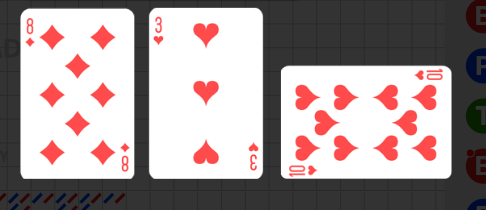10H: (287, 163, 320, 178), (412, 69, 444, 83)
8D: (119, 141, 131, 173)
